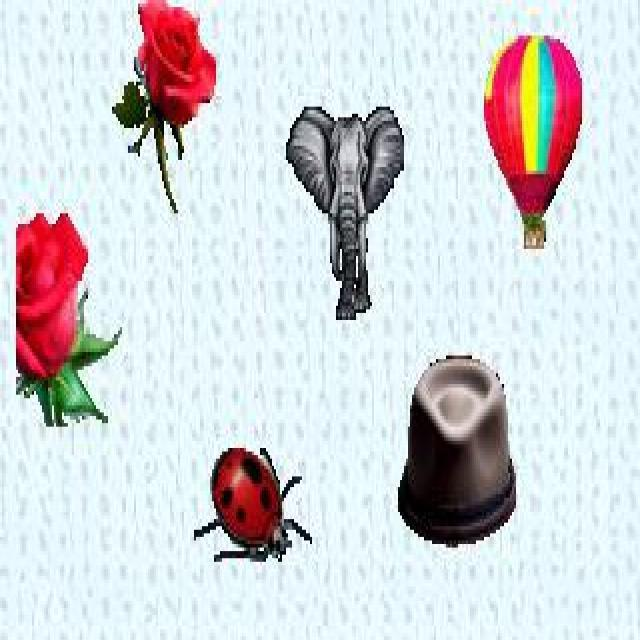Other Objects: (15, 210, 121, 427), (398, 354, 516, 548), (111, 0, 217, 212), (483, 32, 583, 250), (193, 444, 312, 565)
